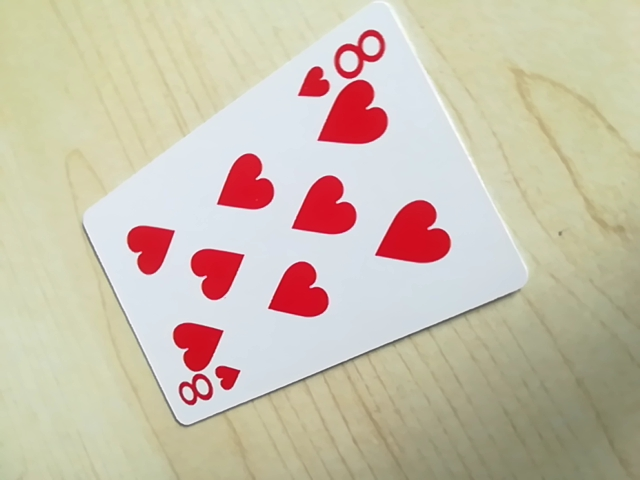hx 8: (298, 23, 388, 99), (173, 362, 244, 414)
